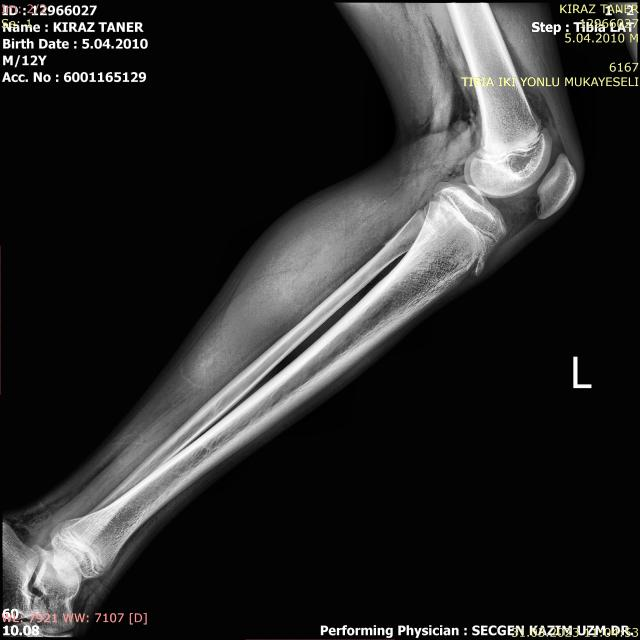Not_Fracture: (0, 3, 596, 640)
